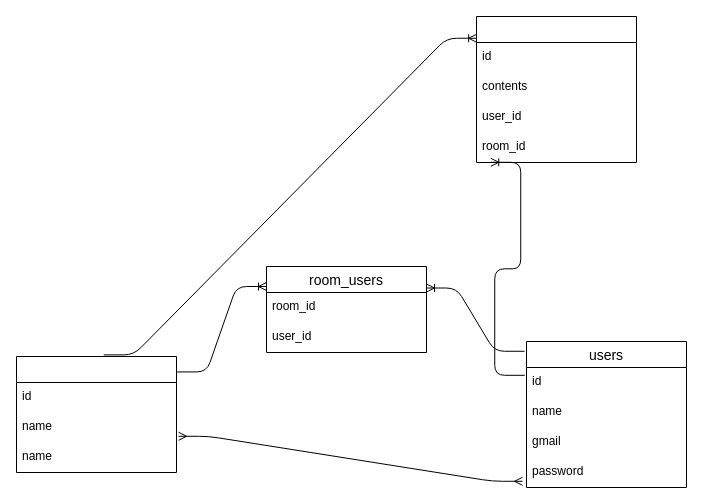
The diagram is 703 pixels wide and 504 high, and some of its shapes have lost their labels. The shapes that lost their labels are listed below. From the top down, each one's box as (x1, y1, x2, y2) in pixels, then its label:
(476, 16, 636, 162): messages
(16, 356, 176, 472): rooms
